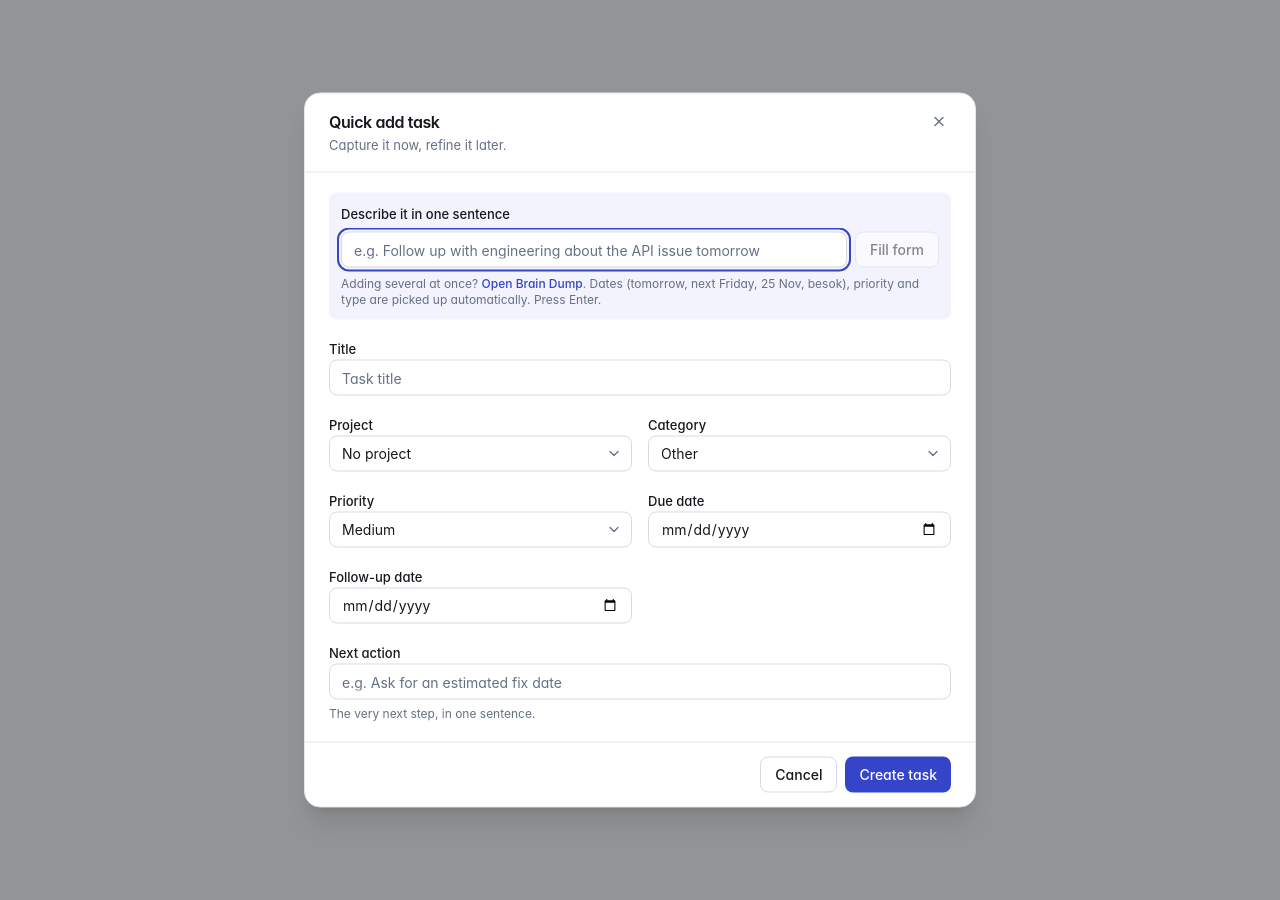
Scenario: Quick Capture in the Quick Add dialog › still works fully by hand when nothing is detected
The width and height of the screenshot is (1280, 900).
In the field labelled "Describe it in one sentence": (594, 250) [341,232,847,268], type "Buy coffee"
Then press Enter
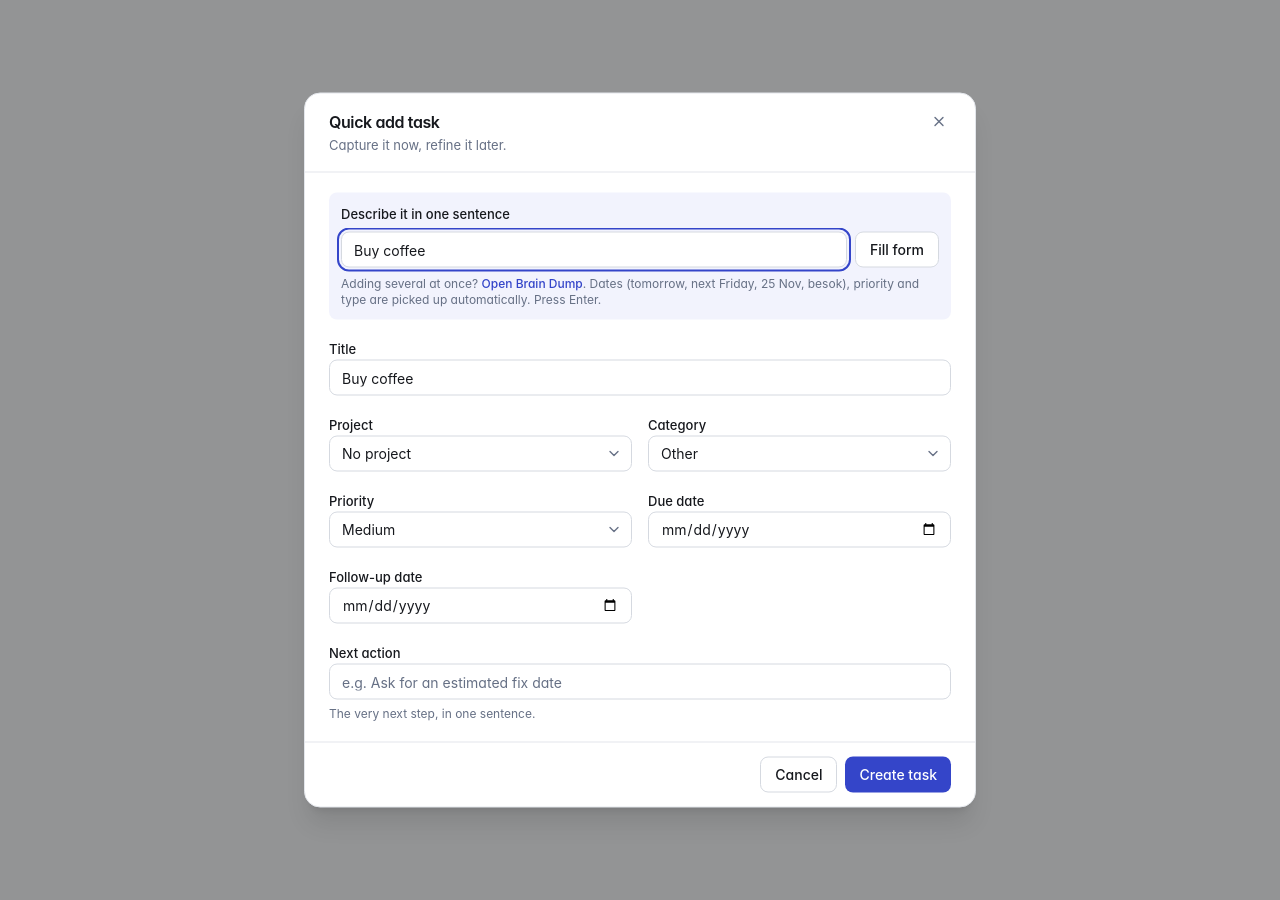
Expected: the dropdown labelled "Category" shows "Other", [648,436,951,472]
Expected: the field labelled "Title" holds "Buy coffee", [329,360,951,396]
